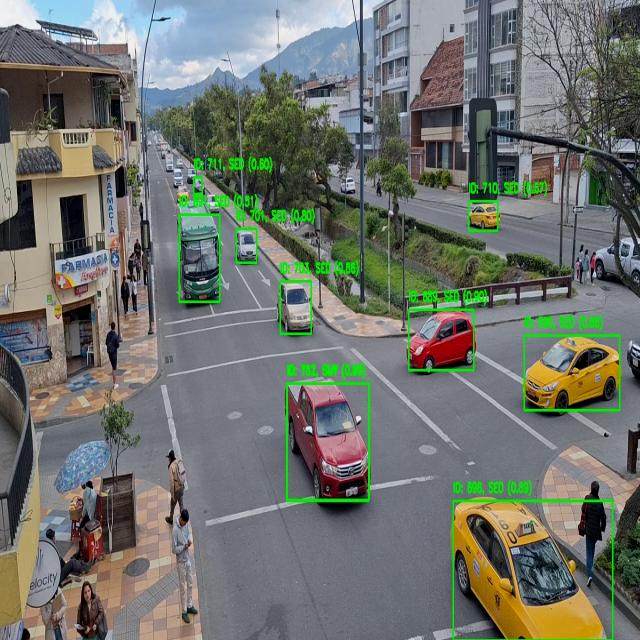BUS: (178, 209, 221, 304)
CMT: (454, 502, 605, 638), (286, 380, 369, 500), (525, 338, 620, 412), (409, 311, 475, 370), (279, 282, 312, 331)
